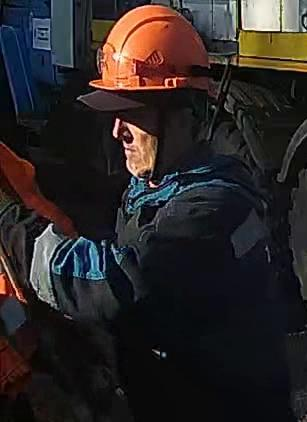helmet: (89, 4, 215, 96)
vest: (35, 168, 284, 390)
